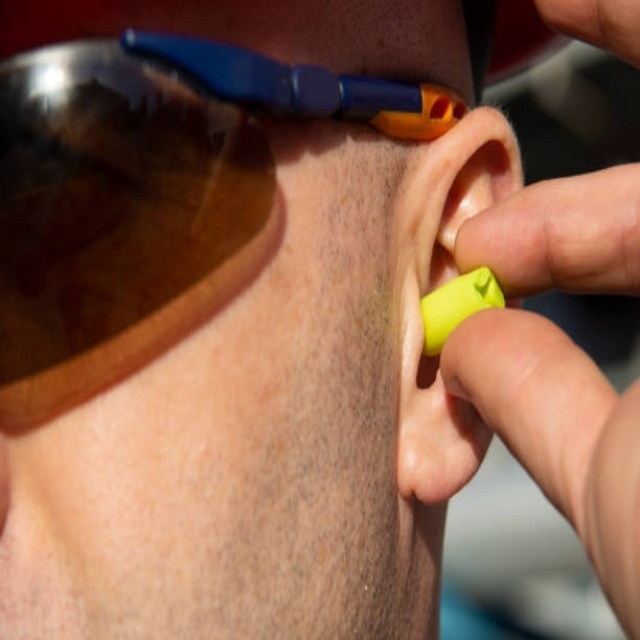Gafas: (2, 22, 406, 435)
Sin_guantes: (430, 2, 636, 638)
